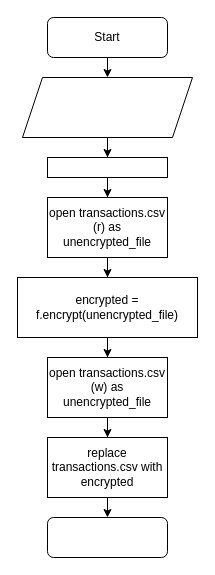
Image size: 215x575. Some labels were removed from this diagram. The centre of each missing label's shape, as x and y in pixels:
End: [107,537]
f = fernet(key): [107,167]
key = input("Enter Key: ): [107,107]
